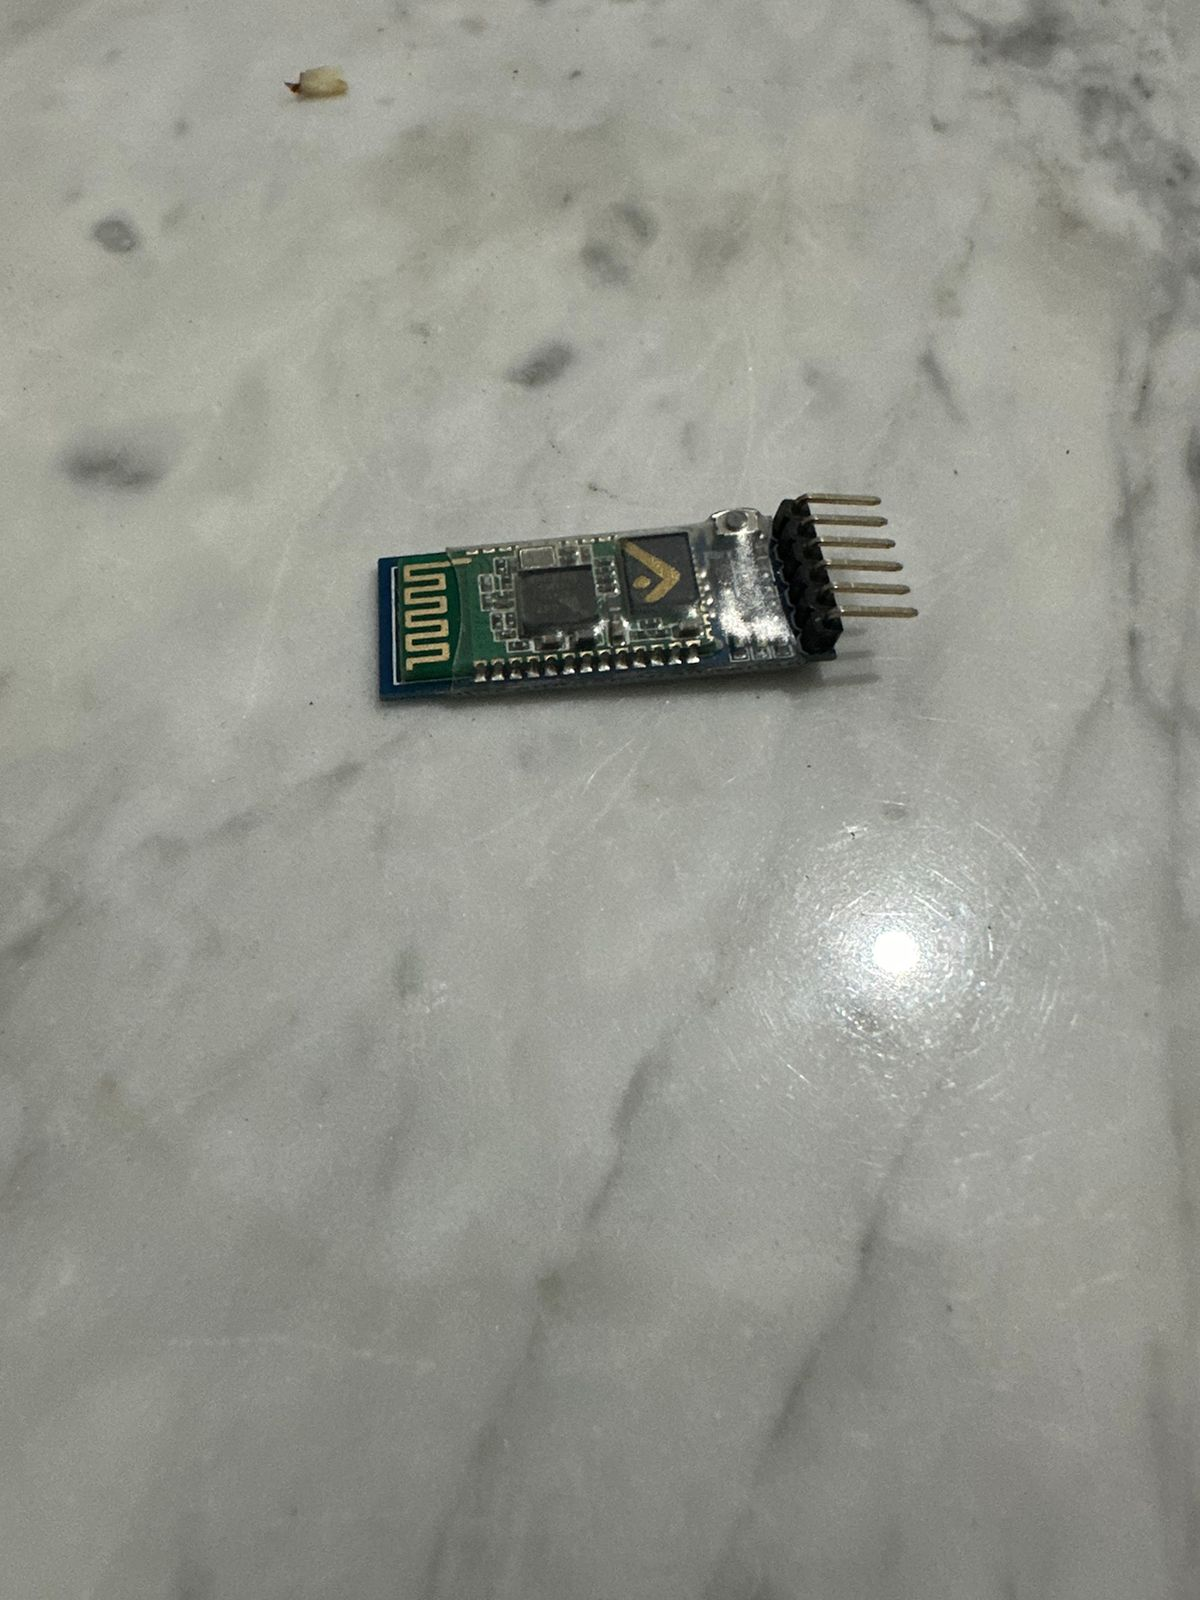module-bluetooth: (306, 500, 938, 698)
